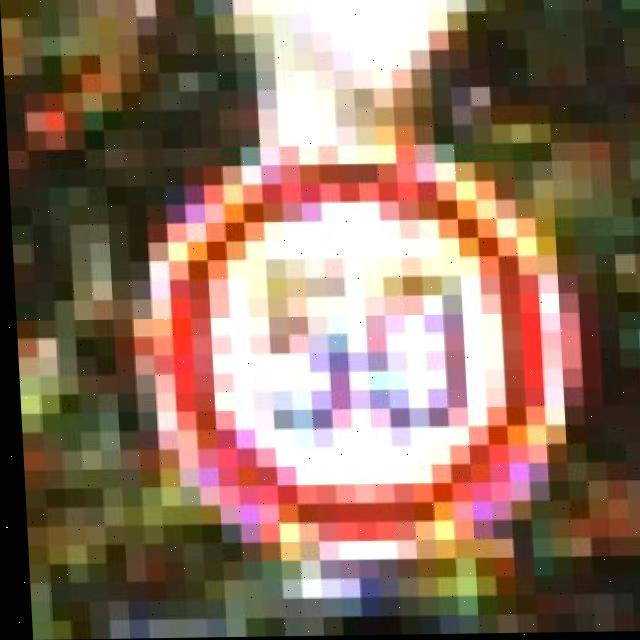Speed limit 50: (138, 141, 576, 567)
